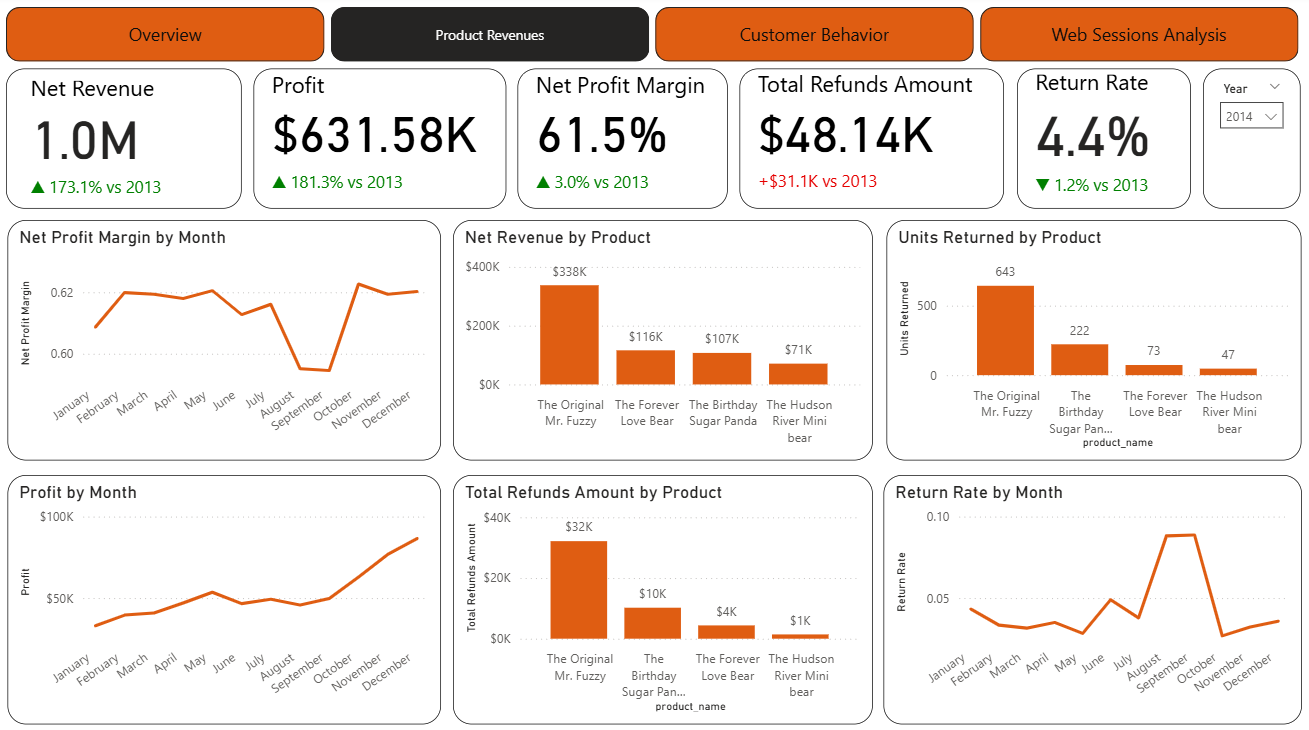

This screenshot's page, from the dashboard's own definition file:
{"tool":"powerbi","page":{"name":"Product Revenues","canvas":[1280,720],"ordinal":1},"visuals":[{"type":"lineChart","fields":{"Y":["_Measures.Net Profit Margin"],"Category":["Date.Month"]},"box":[13.3,218.7,420.7,233.6],"z":0},{"type":"cardVisual","fields":{"Data":["_Measures.Net Profit Margin"]},"box":[508.5,71.2,203.7,135.8],"z":1000},{"type":"cardVisual","fields":{"Data":["_Measures.Net Revenue"]},"box":[251.8,71.2,245.2,135.8],"z":2000},{"type":"clusteredColumnChart","title":"Net Revenue by Product","fields":{"Category":["products.product_name"],"Y":["_Measures.Net Revenue"]},"box":[445.6,218.7,407.5,233.6],"z":3000},{"type":"clusteredColumnChart","title":"Total Refunds Amount by Product","fields":{"Category":["products.product_name"],"Y":["_Measures.Total Refunds Amount"]},"box":[445.6,465.5,407.5,241.8],"z":4000},{"type":"cardVisual","fields":{"Data":["_Measures.Total Refunds Amount"]},"box":[723.9,71.2,256.8,135.8],"z":5000},{"type":"cardVisual","fields":{"Data":["_Measures.Return Rate"]},"box":[992.2,71.2,169,135.8],"z":6000},{"type":"lineChart","fields":{"Category":["Date.Month"],"Y":["_Measures.Net Revenue"]},"box":[13.3,465.5,420.7,241.8],"z":7000},{"type":"slicer","fields":{"Values":["Date.Year"]},"box":[1172.8,71.2,94.4,135.8],"z":8000},{"type":"clusteredColumnChart","title":"Units Returned by Product","fields":{"Y":["_Measures.Units Returned"],"Category":["products.product_name"]},"box":[866.3,218.7,402.5,233.6],"z":9000},{"type":"lineChart","fields":{"Y":["_Measures.Return Rate"],"Category":["Date.Month"]},"box":[863,465.5,405.8,241.8],"z":10000},{"type":"pageNavigator","box":[11.6,11.6,1255.6,53],"z":11000},{"type":"cardVisual","fields":{"Data":["_Measures.Net Revenue1"]},"box":[13.6,72.7,227.1,134.8],"z":12001}]}

Visuals, with their boxes in screenshot pixels (x1, y1, x2, y2), scaled from the page's 1280x720 canvas onto the 1309x730 screenshot:
lineChart - _Measures.Net Profit Margin x Date.Month: (left=14, top=222, right=444, bottom=459)
cardVisual - _Measures.Net Profit Margin: (left=520, top=72, right=728, bottom=210)
cardVisual - _Measures.Net Revenue: (left=258, top=72, right=508, bottom=210)
"Net Revenue by Product" clusteredColumnChart: (left=456, top=222, right=872, bottom=459)
"Total Refunds Amount by Product" clusteredColumnChart: (left=456, top=472, right=872, bottom=717)
cardVisual - _Measures.Total Refunds Amount: (left=740, top=72, right=1003, bottom=210)
cardVisual - _Measures.Return Rate: (left=1015, top=72, right=1188, bottom=210)
lineChart - Date.Month x _Measures.Net Revenue: (left=14, top=472, right=444, bottom=717)
slicer - Date.Year: (left=1199, top=72, right=1296, bottom=210)
"Units Returned by Product" clusteredColumnChart: (left=886, top=222, right=1298, bottom=459)
lineChart - _Measures.Return Rate x Date.Month: (left=883, top=472, right=1298, bottom=717)
pageNavigator: (left=12, top=12, right=1296, bottom=65)
cardVisual - _Measures.Net Revenue1: (left=14, top=74, right=246, bottom=210)
